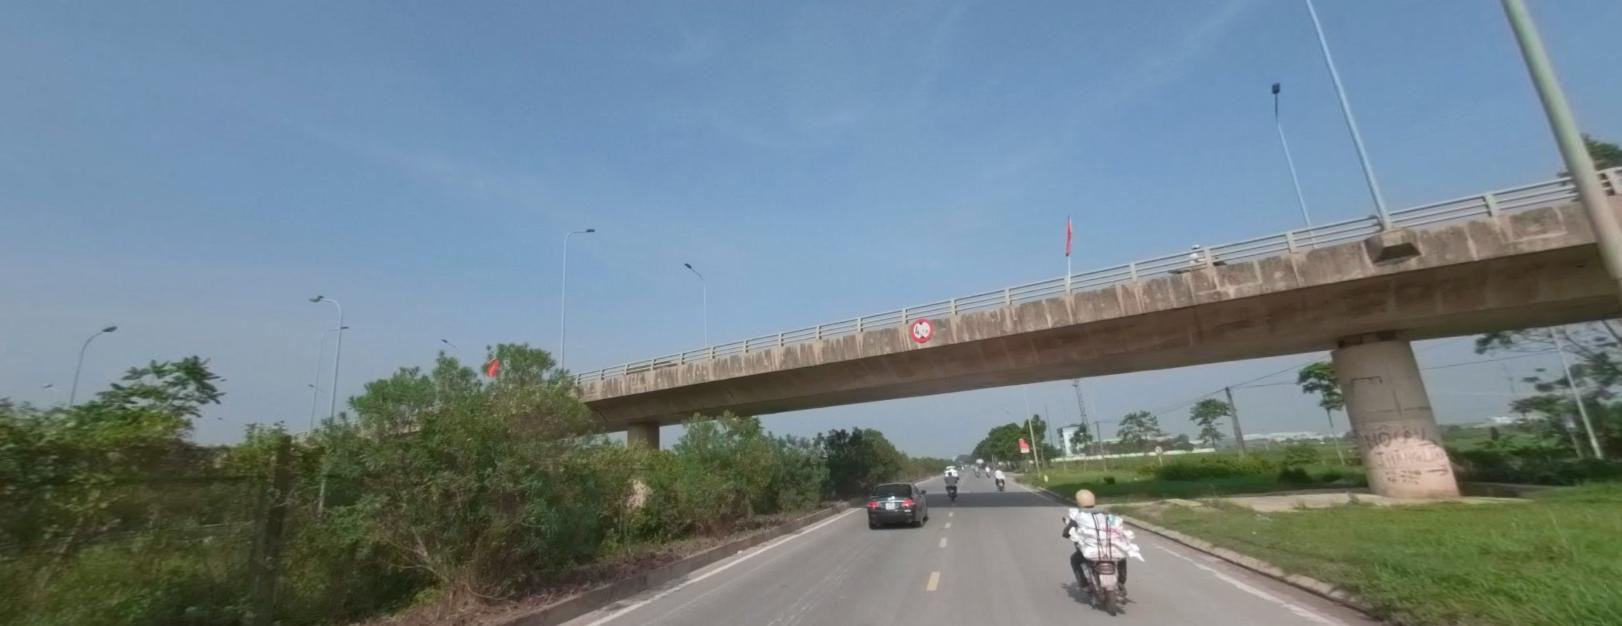Cam con lai: (906, 316, 932, 341)
